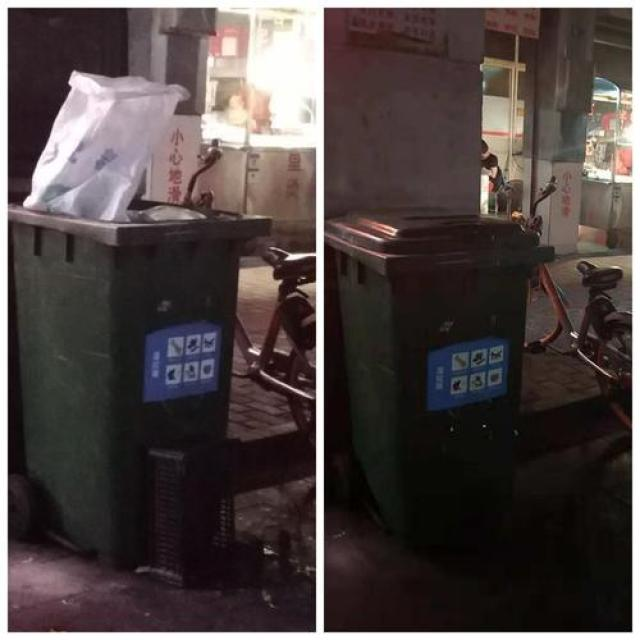garbage_bin: (324, 206, 554, 549)
overflow: (9, 68, 271, 550)
